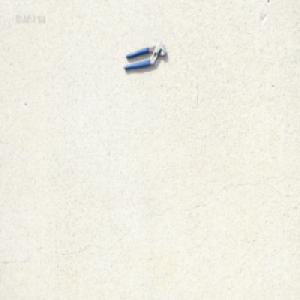Pliers: (122, 40, 167, 71)
